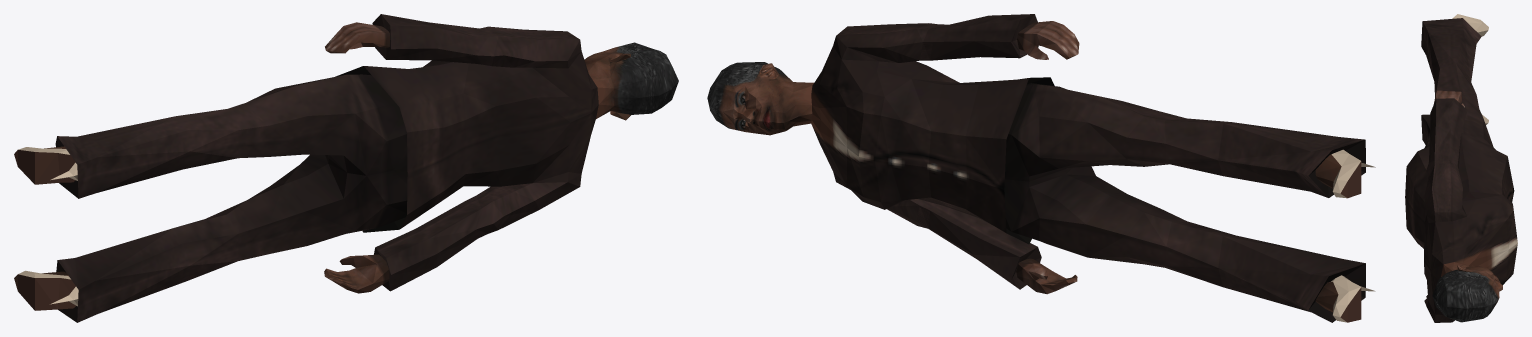
Rendered from bfori.obj.
3 renders of one model, left to right at view 1: azimuth 30°, elevation 25°; view 2: azimuth 150°, elevation 25°; view 3: azimuth 270°, elevation 25°, orthographic. The views are drawn at different scales.
Visible parts, largest first — view 1: Root; view 2: Root; view 3: Root.
Part boxes in pixels (bbox=[...]): Root: bbox=[14, 14, 678, 322]; Root: bbox=[707, 14, 1375, 322]; Root: bbox=[1405, 14, 1517, 322].
Bounding box in the file's own units: 1.78 × 0.7126 × 0.3593.
Materials: 2 (2 with a texture image).
